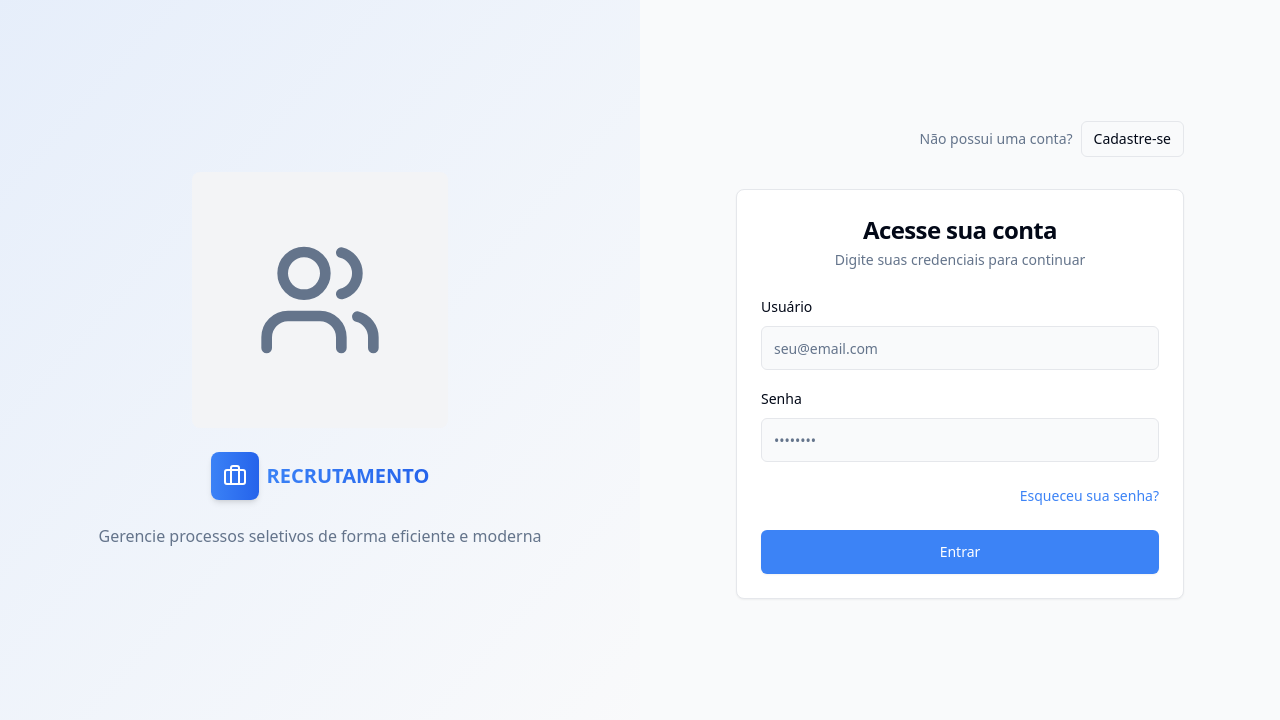
Test: Componente Login › deve exibir mensagem de erro padrão quando nenhum erro específico é fornecido
The width and height of the screenshot is (1280, 720).
Type "test@example.com" into the field labelled "Usuário".
click(960, 348); type("test@example.com")  # box left=761, top=326, right=1159, bottom=370
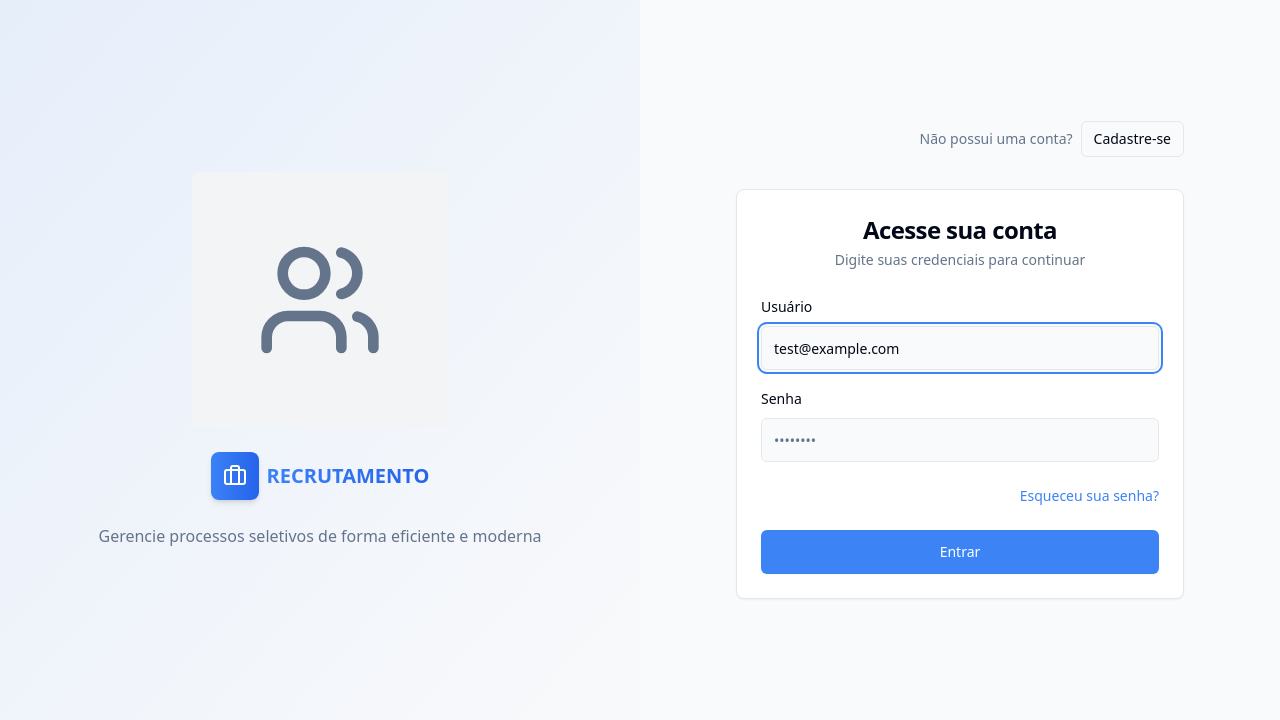
Type "password123" into the password field labelled "Senha".
click(960, 440); type("password123")  # box left=761, top=418, right=1159, bottom=462
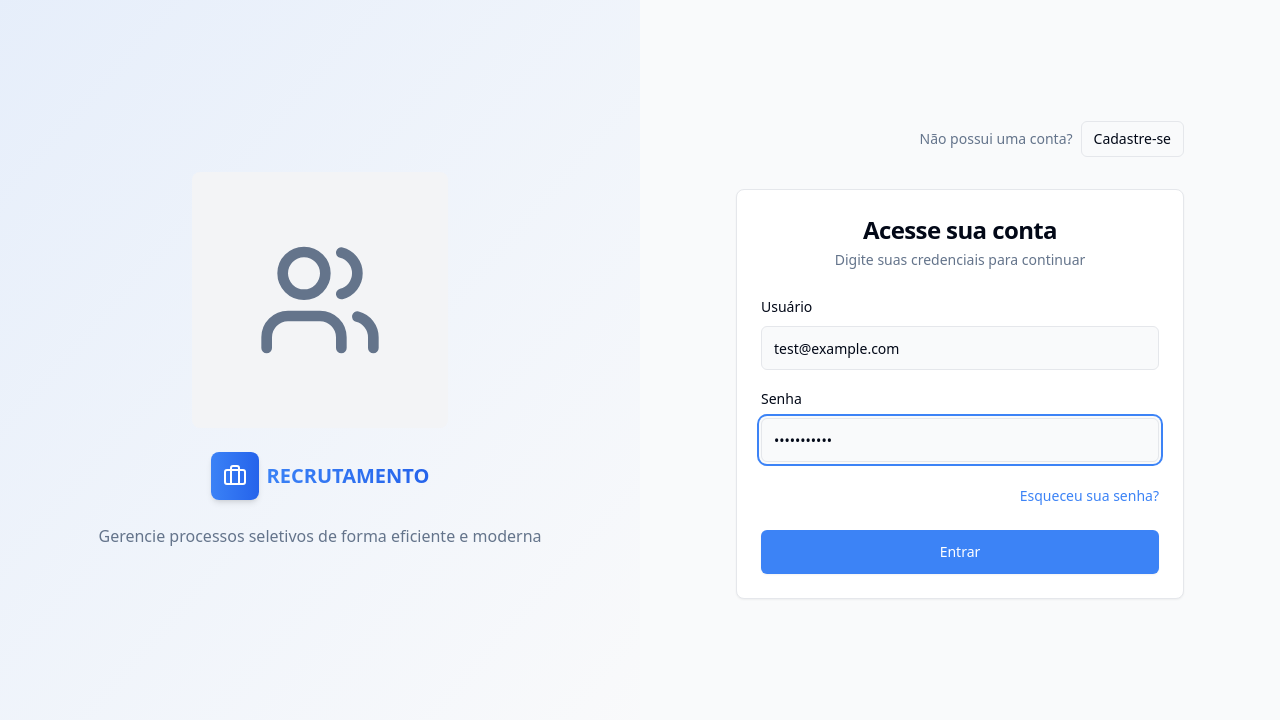
Click the button "Entrar".
click(960, 552)  # box left=761, top=530, right=1159, bottom=574
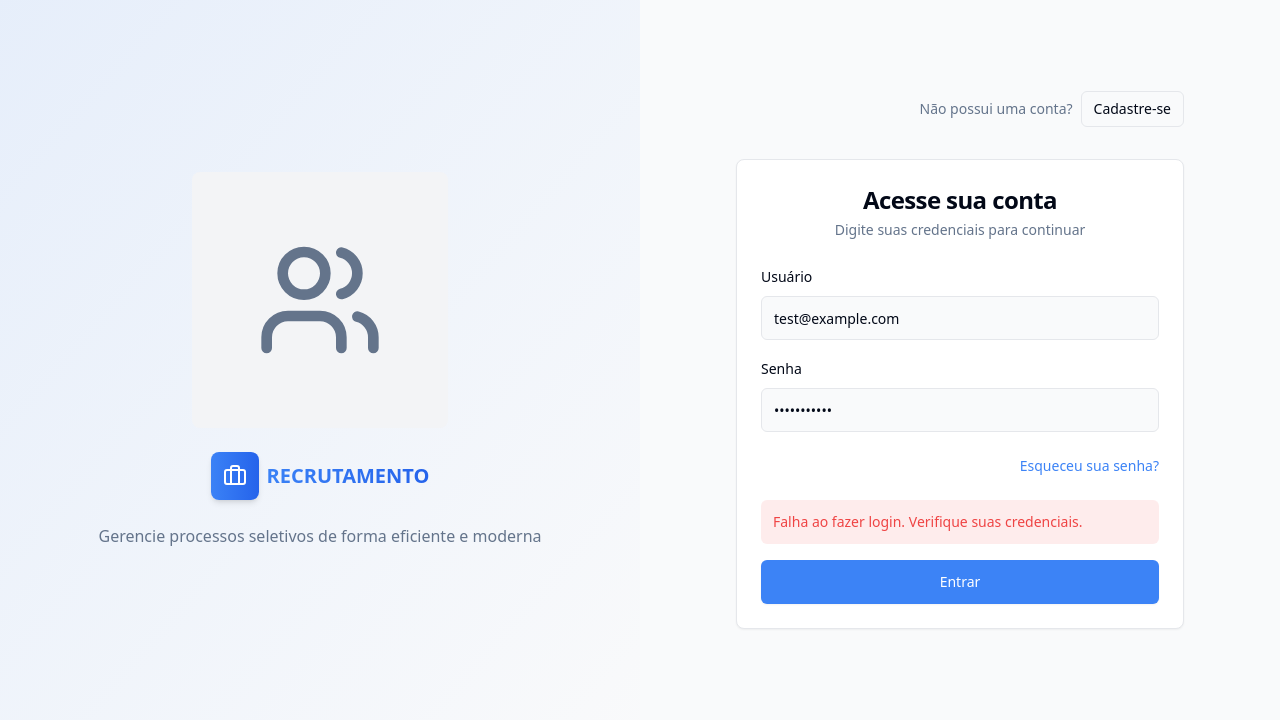
Check: the text "Falha ao fazer login. Verifique suas credenciais." is shown, box left=761, top=500, right=1159, bottom=544
